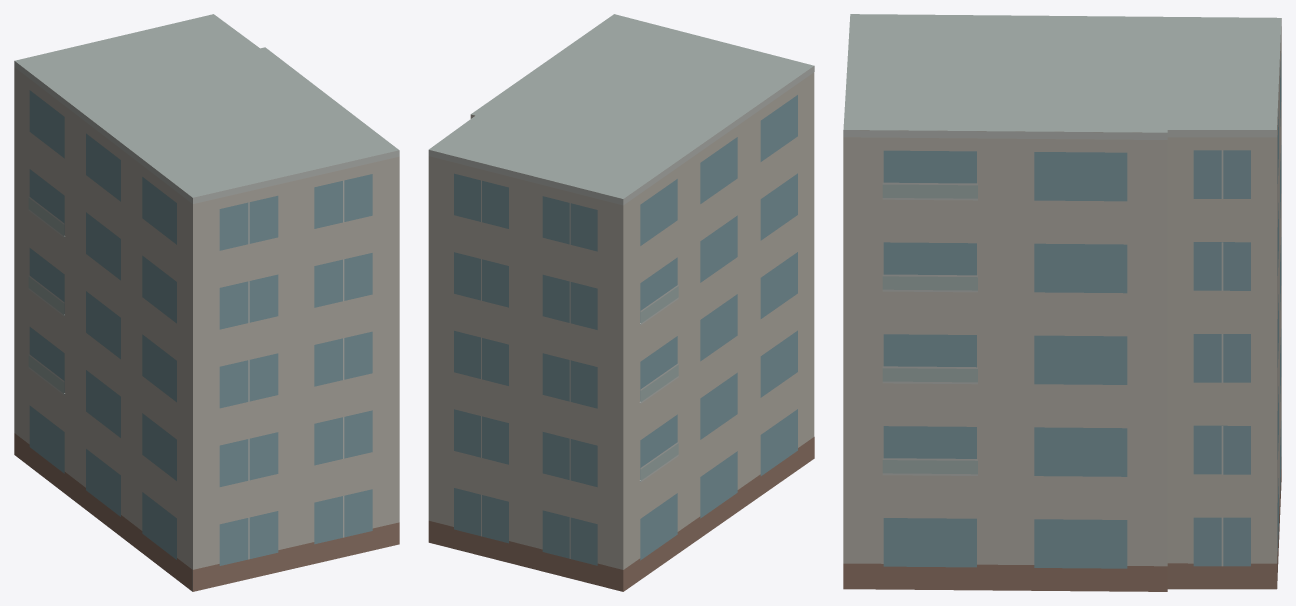
The model's file is survey-upis-33044021.glb.
3 renders of one model, left to right at view 1: azimuth 30°, elevation 25°; view 2: azimuth 150°, elevation 25°; view 3: azimuth 270°, elevation 25°, orthographic. The views are drawn at different scales.
Visible parts, largest first — view 1: survey-upis-33044021.tmp; view 2: survey-upis-33044021.tmp; view 3: survey-upis-33044021.tmp.
Boxes of the visible parts, <box> form: survey-upis-33044021.tmp: <box>14,14,399,591</box>; survey-upis-33044021.tmp: <box>428,14,814,591</box>; survey-upis-33044021.tmp: <box>843,14,1281,591</box>.
Size of the model in its own units: 8.35 by 15.05 by 13.02.
